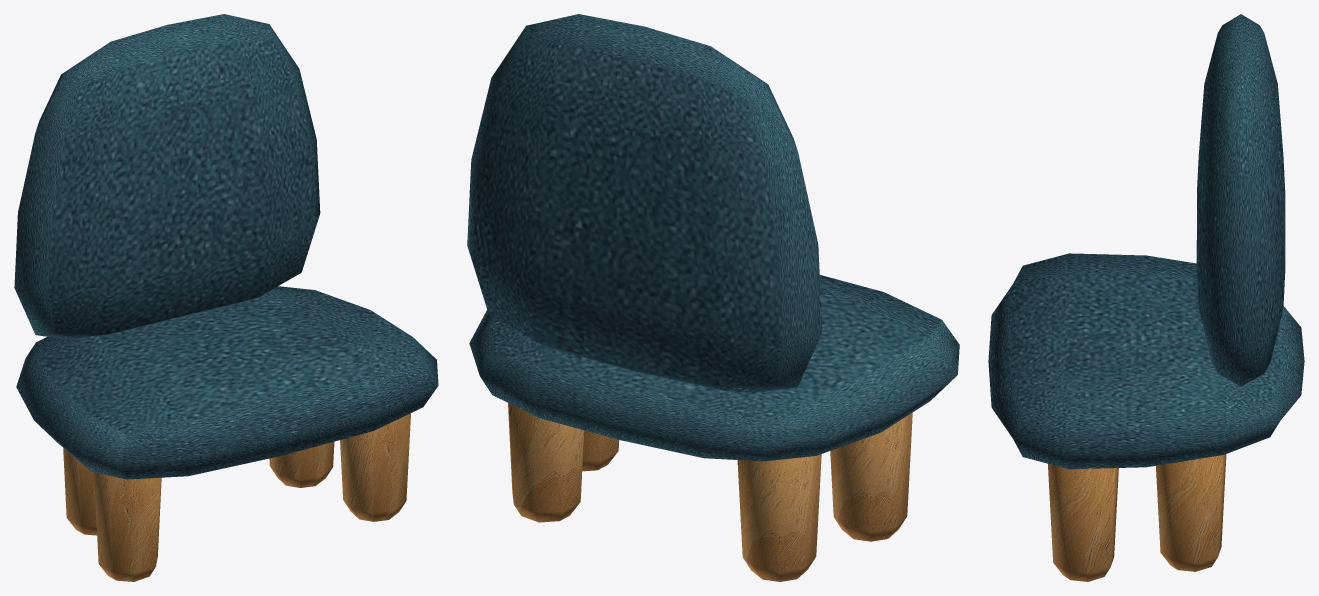
The model's file is chair_01.glb.
3 renders of one model, left to right at view 1: azimuth 30°, elevation 25°; view 2: azimuth 150°, elevation 25°; view 3: azimuth 270°, elevation 25°, orthographic. The views are drawn at different scales.
Parts seen in each view (by area): view 1: Chair_01; view 2: Chair_01; view 3: Chair_01.
Boxes of the visible parts, x1,y1,x2,y2 form: Chair_01: [14, 14, 438, 581]; Chair_01: [467, 14, 959, 581]; Chair_01: [988, 14, 1304, 581].
Size of what is drawn, in the model's own units: 1.99 by 2.41 by 1.46.
Materials: 2 (2 with a texture image).
